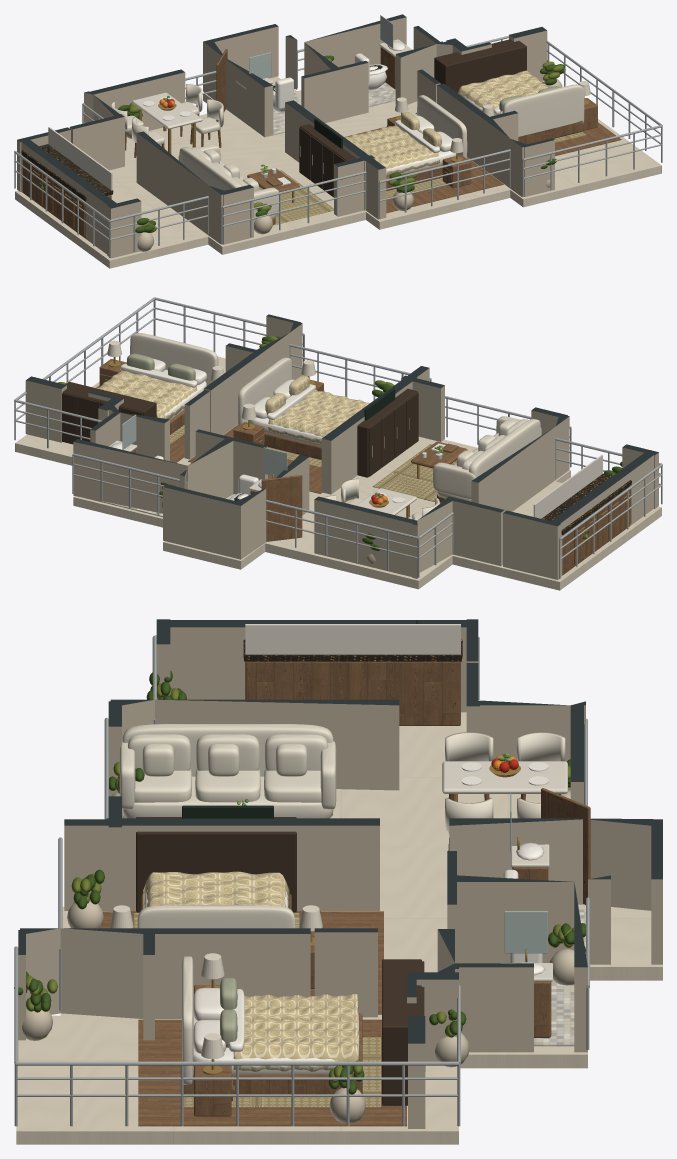
The picture shows the model from 3 angles, top to bottom: view 1: azimuth 30°, elevation 25°; view 2: azimuth 150°, elevation 25°; view 3: azimuth 270°, elevation 25°; orthographic projection. The views are drawn at different scales.
Parts seen in each view (by area): view 1: Source-traced internal and perimeter walls • Wall, Continuous apartment foundation, Fitted dark wardrobe.001, Padded headboard.001, Soft jacquard duvet with folds, Soft jacquard duvet with folds.001, Full bedroom wood flooring, Padded headboard, Backsplash, Living patterned carpet, Sofa back, Dining top (+22 smaller); view 2: Source-traced internal and perimeter walls • Wall, Continuous apartment foundation, Soft jacquard duvet with folds, Oak entrance door, Soft jacquard duvet with folds.001, Padded headboard.001, Living patterned carpet, Sofa back, Padded headboard, Backsplash, Rounded armrest, Fitted dark wardrobe (+18 smaller); view 3: Source-traced internal and perimeter walls • Wall, Continuous apartment foundation, Base cabinets, Full bedroom wood flooring.001, Soft jacquard duvet with folds.001, Fitted dark wardrobe, Backsplash, Soft jacquard duvet with folds, Fitted dark wardrobe.001, Padded headboard, Dining top, Sofa back (+36 smaller).
Part boxes in pixels (left/top/right/bottom): Source-traced internal and perimeter walls • Wall: left=17, top=14, right=554, bottom=258; Continuous apartment foundation: left=15, top=76, right=661, bottom=268; Fitted dark wardrobe.001: left=434, top=39, right=526, bottom=93; Padded headboard.001: left=502, top=84, right=584, bottom=136; Soft jacquard duvet with folds: left=345, top=125, right=440, bottom=176; Soft jacquard duvet with folds.001: left=458, top=70, right=547, bottom=115; Full bedroom wood flooring: left=344, top=126, right=503, bottom=213; Padded headboard: left=417, top=95, right=467, bottom=158; Backsplash: left=48, top=127, right=112, bottom=190; Living patterned carpet: left=259, top=170, right=333, bottom=225; Sofa back: left=179, top=147, right=241, bottom=190; Dining top: left=132, top=92, right=202, bottom=129; Source-traced internal and perimeter walls • Wall: left=25, top=314, right=658, bottom=579; Continuous apartment foundation: left=15, top=356, right=661, bottom=590; Soft jacquard duvet with folds: left=267, top=389, right=369, bottom=443; Oak entrance door: left=261, top=475, right=302, bottom=541; Soft jacquard duvet with folds.001: left=96, top=370, right=198, bottom=419; Padded headboard.001: left=130, top=333, right=218, bottom=385; Living patterned carpet: left=372, top=444, right=456, bottom=503; Sofa back: left=469, top=418, right=540, bottom=477; Padded headboard: left=238, top=357, right=291, bottom=425; Backsplash: left=533, top=455, right=602, bottom=518; Rounded armrest: left=433, top=462, right=476, bottom=499; Fitted dark wardrobe: left=357, top=388, right=417, bottom=477; Source-traced internal and perimeter walls • Wall: left=18, top=619, right=662, bottom=1128; Continuous apartment foundation: left=16, top=712, right=662, bottom=1144; Base cabinets: left=245, top=661, right=460, bottom=725; Full bedroom wood flooring.001: left=138, top=1019, right=406, bottom=1126; Soft jacquard duvet with folds.001: left=233, top=993, right=358, bottom=1071; Fitted dark wardrobe: left=136, top=817, right=296, bottom=912; Backsplash: left=245, top=624, right=460, bottom=654; Soft jacquard duvet with folds: left=143, top=871, right=289, bottom=908; Fitted dark wardrobe.001: left=382, top=959, right=421, bottom=1105; Padded headboard: left=137, top=905, right=295, bottom=928; Dining top: left=442, top=761, right=567, bottom=793; Sofa back: left=122, top=724, right=333, bottom=776.
Size of the model in its own units: 12.12 by 1.7 by 7.75.
Materials: 26 (6 with a texture image).
